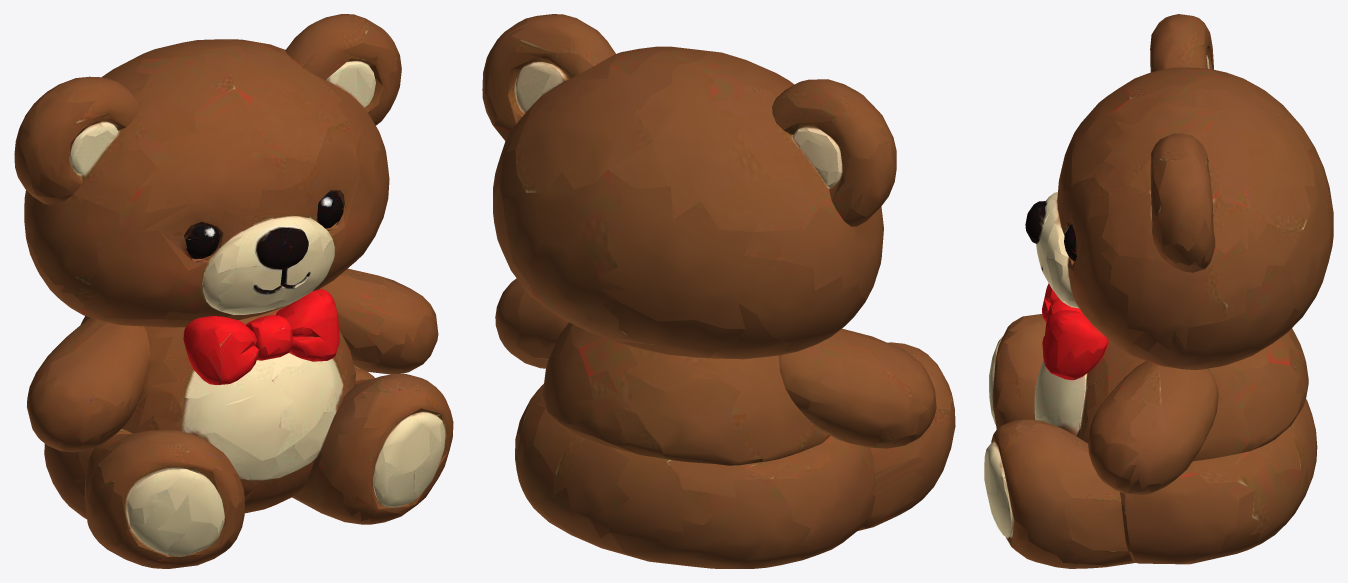
File: ting-bamse.glb
The picture shows the model from 3 angles, left to right: view 1: azimuth 30°, elevation 25°; view 2: azimuth 150°, elevation 25°; view 3: azimuth 270°, elevation 25°; orthographic projection. The views are drawn at different scales.
Size of the model in its own units: 1.81 by 1.9 by 1.41.
1 material, 1 textured.
